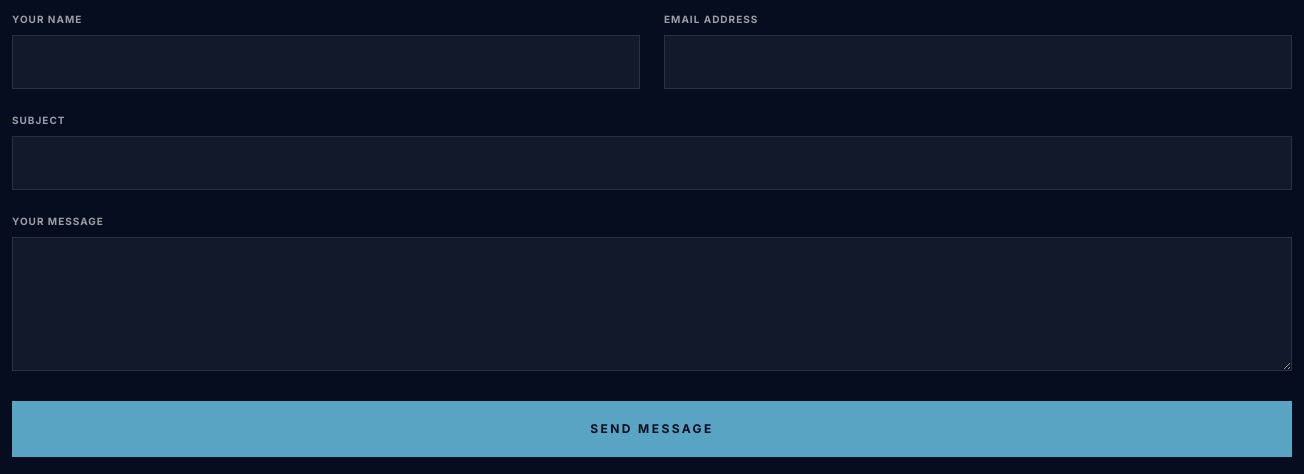
Test: ContactForm › posts the fields with the token and honeypot, then shows success and resets the widget
The width and height of the screenshot is (1304, 474).
Type "Jane Doe" into the field labelled "Your Name" at (326, 62), box [12, 35, 640, 89]
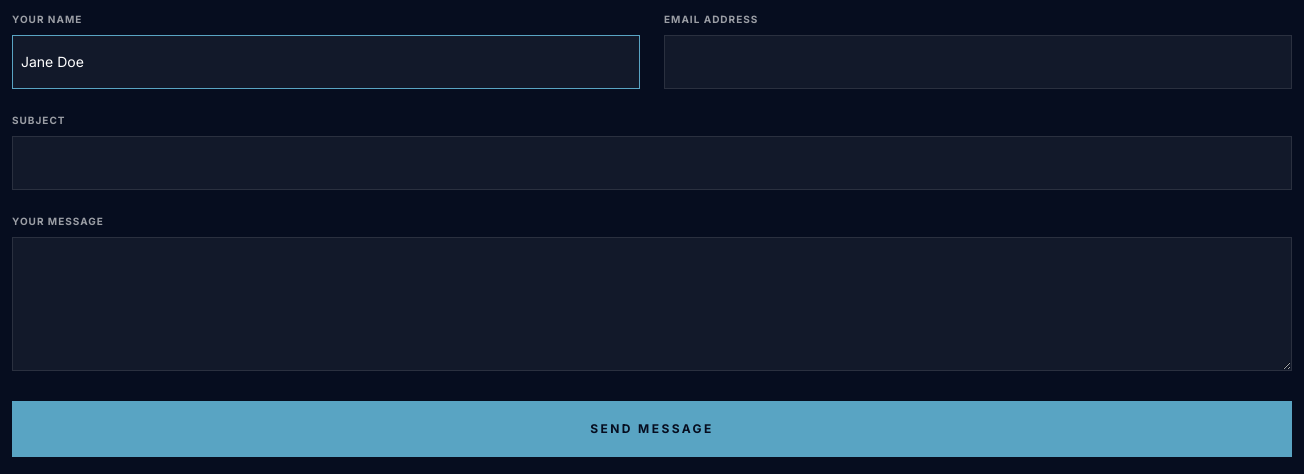
Type "jane@example.com" into the field labelled "Email Address" at (978, 62), box [664, 35, 1292, 89]
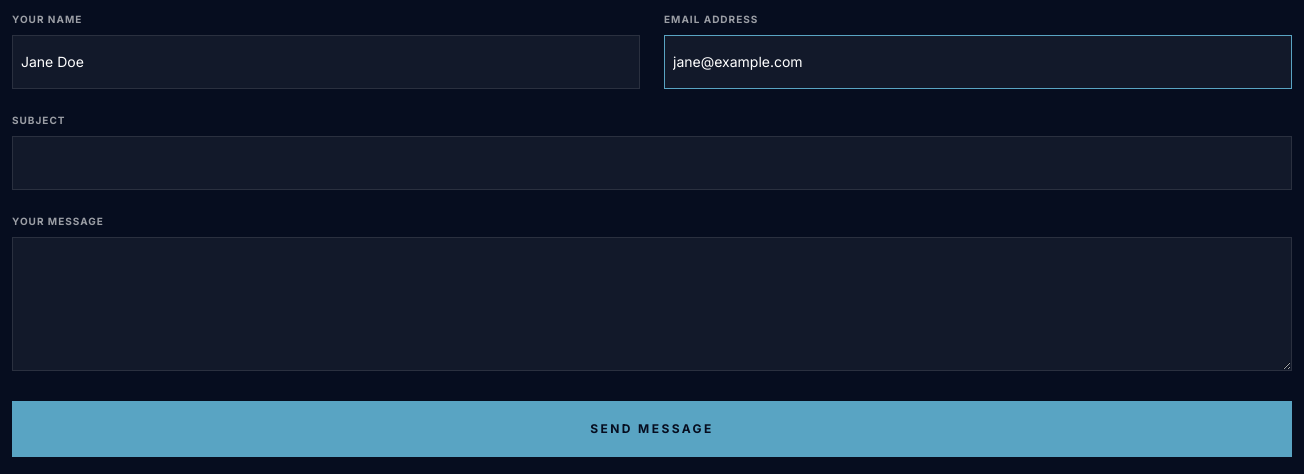
Type "Booking" into the field labelled "Subject" at (652, 163), box [12, 136, 1292, 190]
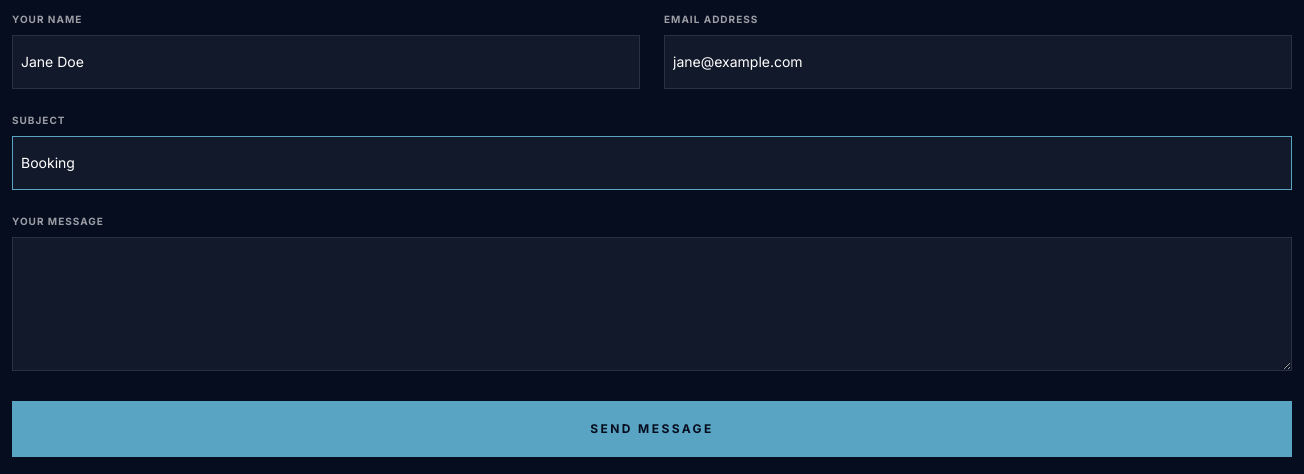
Type "Do you have rooms?" into the text box labelled "Your Message" at (652, 304), box [12, 237, 1292, 371]
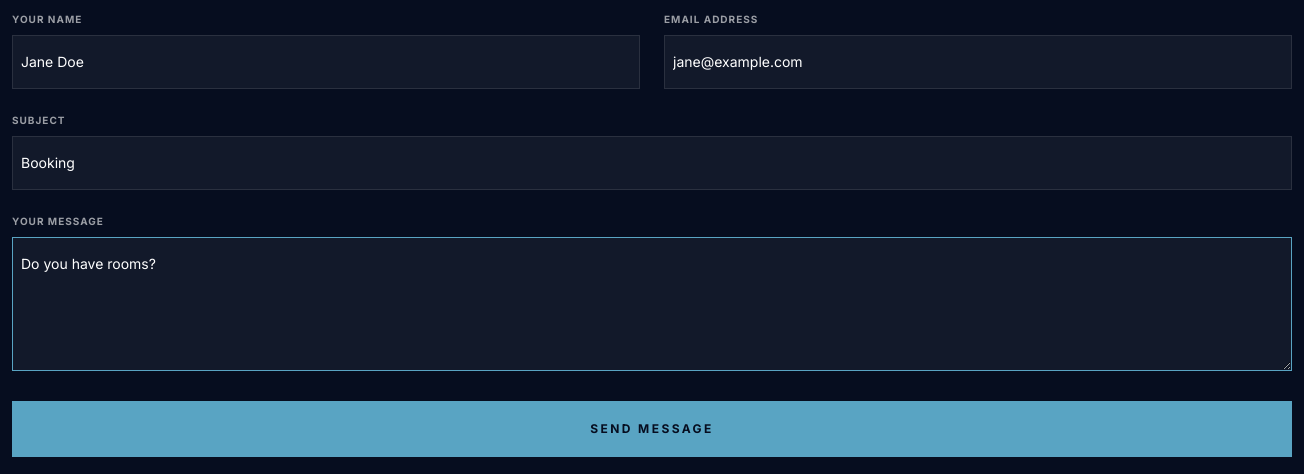
Click the button "Send Message" at (652, 429), box [12, 401, 1292, 457]
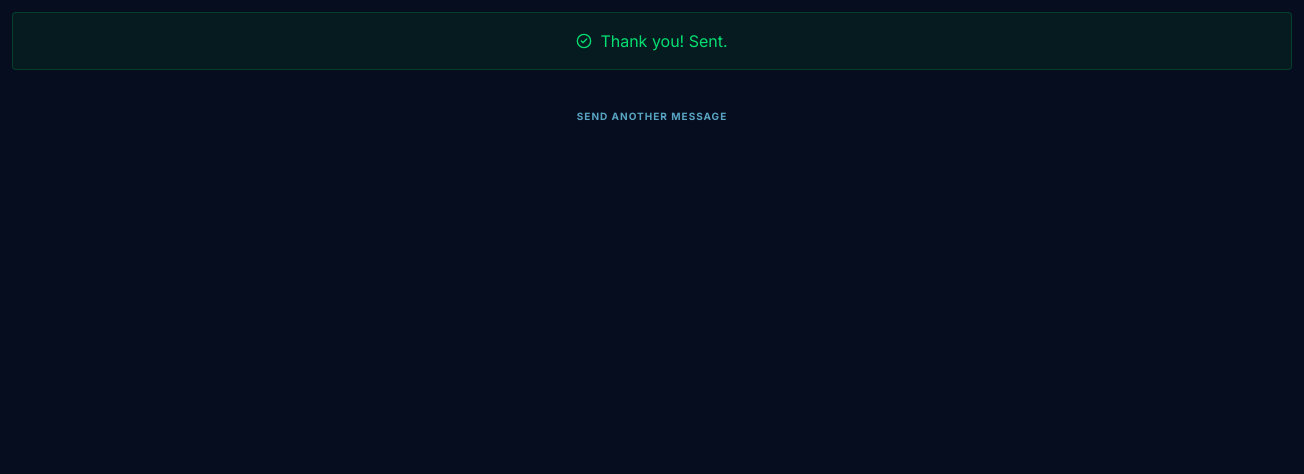
expect the message reads "Thank you! Sent.": met, box [600, 31, 728, 51]
